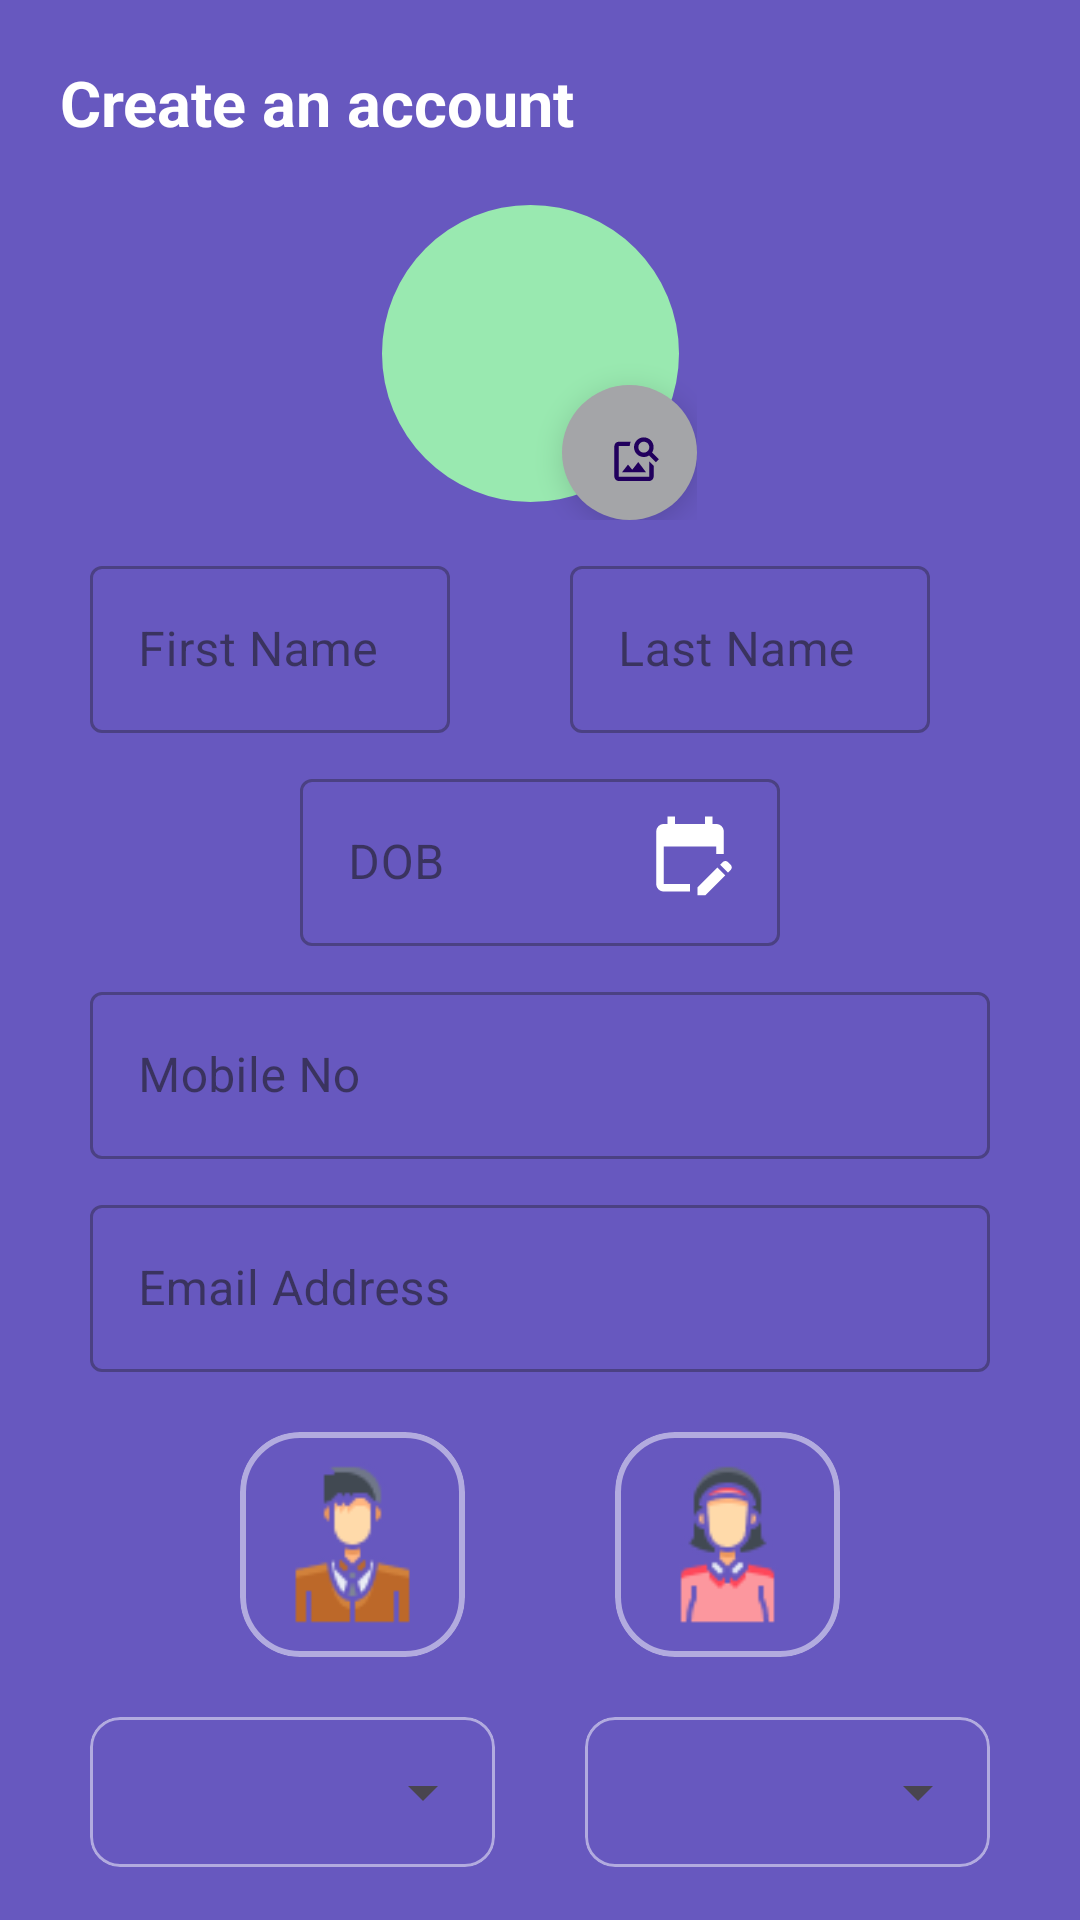

Where to tap for icons on this 1080x1920 app screen, as point (x, y):
add image: point (629, 452)
Calender: point (694, 856)
man: point (352, 1545)
women: point (727, 1545)
